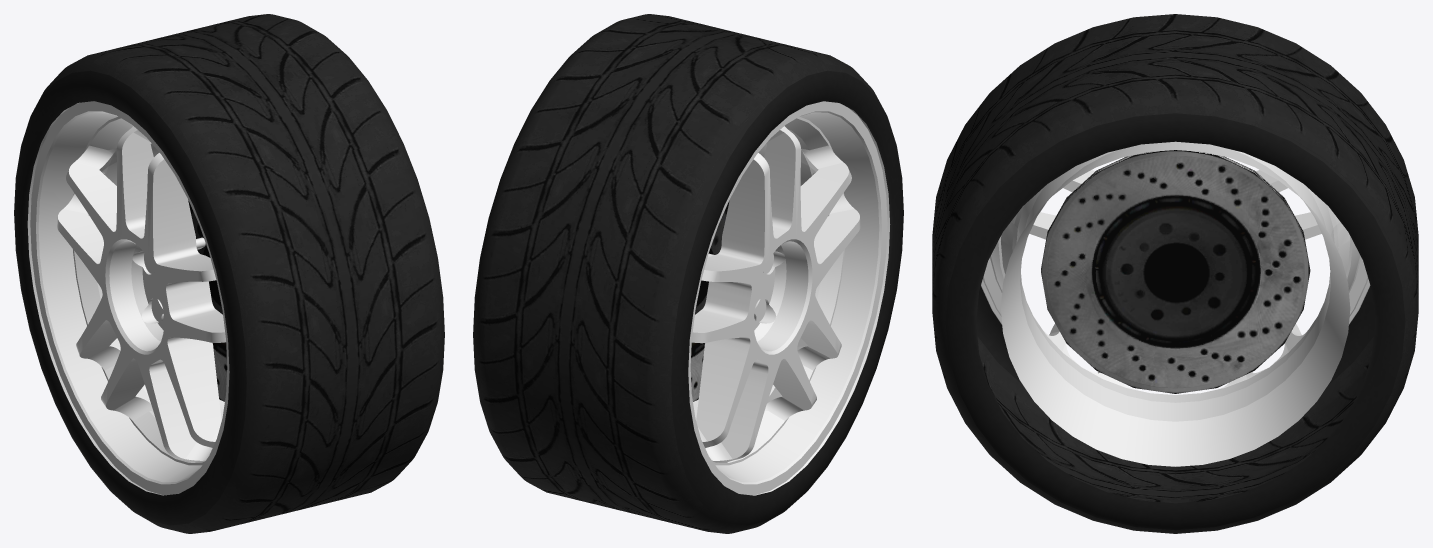
Rendered from 11_Rota_SubZero.fbx.
3 views of the same model, side by side, from view 1: azimuth 30°, elevation 25°; view 2: azimuth 150°, elevation 25°; view 3: azimuth 270°, elevation 25° (orthographic).
Parts seen in each view (by area): view 1: Combined No Name Object 0, Rota_SubZero, Combined co_contisportcontact_2_vmax_wall Object 0, Rotor; view 2: Combined No Name Object 0, Rota_SubZero, Combined co_contisportcontact_2_vmax_wall Object 0, Rotor; view 3: Combined No Name Object 0, Rotor, Combined co_contisportcontact_2_vmax_wall Object 0, Rota_SubZero.
Boxes of the visible parts, x1,y1,x2,y2 form: Combined No Name Object 0: (14,14,444,533); Rota_SubZero: (27,101,229,495); Combined co_contisportcontact_2_vmax_wall Object 0: (14,70,246,525); Rotor: (188,199,227,401); Combined No Name Object 0: (473,14,903,533); Rota_SubZero: (688,101,890,495); Combined co_contisportcontact_2_vmax_wall Object 0: (671,70,903,525); Rotor: (690,200,729,401); Combined No Name Object 0: (932,14,1418,533); Rotor: (1041,150,1310,393); Combined co_contisportcontact_2_vmax_wall Object 0: (945,113,1405,530); Rota_SubZero: (981,141,1370,466).
Bounding box in the file's own units: 0.3334 × 0.688 × 0.688.
